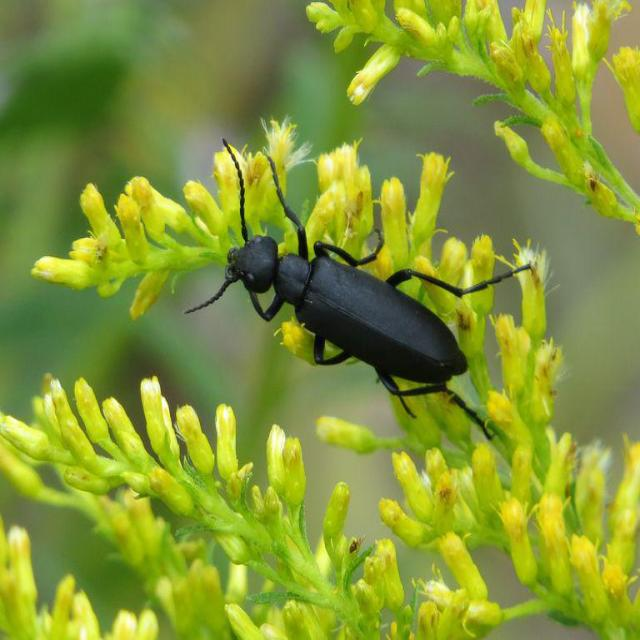BlisterBeetle-Adult-: (177, 135, 534, 451)
